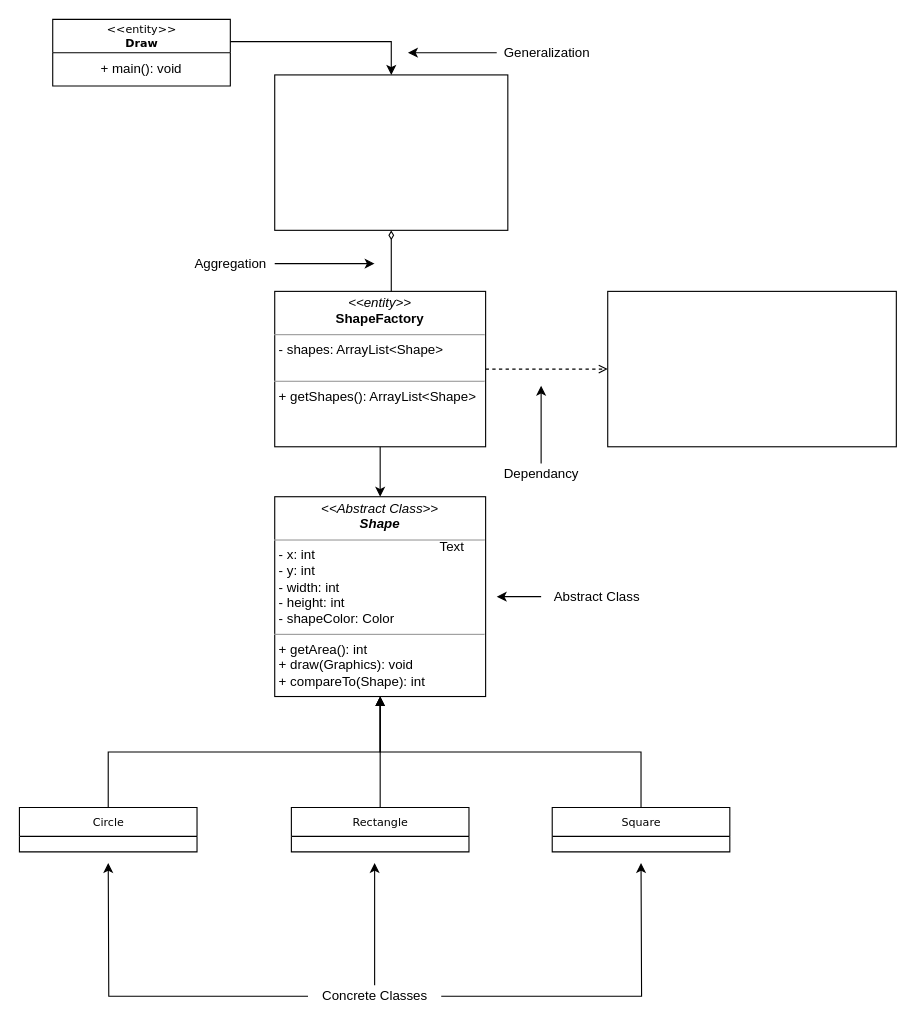
The diagram is 916 pixels wide and 1027 high, and some of its shapes have lost their labels. The centre of each missing label's shape, as x and y in pixels:
"<<entity>> Display - shapes: ArrayList<Shape> + paintComponent(Graphics): void" belongs at [391,152].
"<<entity>> SortingTechnique + sortShapes(List<Shape>): ArrayList<Shape>" belongs at [751,368].
